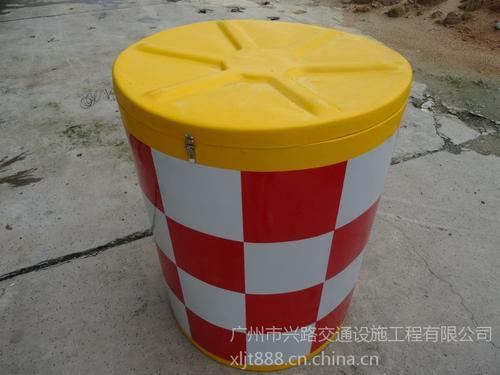sign: (102, 19, 410, 370)
